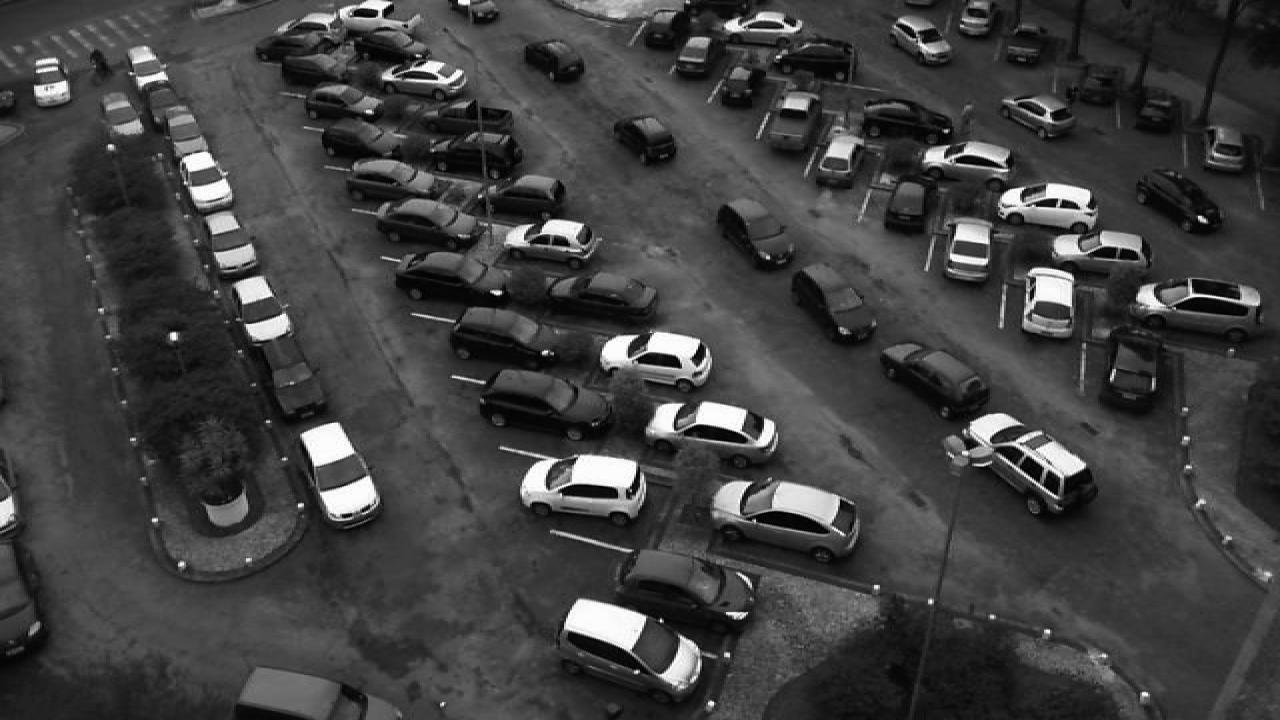Car: (550, 598, 706, 706), (956, 410, 1100, 516), (706, 475, 866, 565), (610, 547, 760, 633), (472, 367, 616, 440), (516, 452, 650, 528), (642, 398, 782, 470), (296, 418, 384, 530), (230, 666, 406, 720), (876, 340, 994, 420), (1124, 276, 1266, 340), (788, 261, 882, 344), (596, 328, 716, 392), (444, 304, 564, 364), (1100, 322, 1172, 412), (1132, 169, 1224, 236), (392, 251, 508, 304), (714, 196, 796, 269), (548, 271, 660, 324), (256, 338, 328, 419), (992, 180, 1102, 233), (376, 198, 484, 249), (1050, 231, 1156, 282), (504, 217, 604, 267), (912, 140, 1018, 187), (420, 130, 524, 176), (1020, 266, 1080, 343), (230, 272, 294, 343), (344, 156, 440, 202), (856, 96, 956, 140), (374, 58, 470, 102), (940, 215, 1000, 285), (484, 172, 568, 221), (198, 205, 258, 272), (320, 118, 408, 162), (996, 94, 1078, 140), (416, 97, 514, 135), (178, 148, 238, 210), (774, 36, 858, 80), (888, 14, 956, 68), (766, 91, 822, 153), (610, 115, 678, 165), (302, 82, 386, 122), (252, 22, 334, 62), (882, 177, 938, 233), (524, 38, 588, 84), (720, 10, 804, 44), (1200, 125, 1256, 175), (810, 134, 860, 189), (352, 29, 430, 62), (28, 55, 76, 108), (280, 53, 350, 88), (102, 90, 148, 141), (998, 22, 1050, 66), (342, 12, 414, 43), (1072, 61, 1120, 107), (154, 96, 200, 140), (1134, 50, 1178, 96), (164, 119, 212, 161), (718, 64, 762, 109), (124, 43, 172, 84), (672, 34, 716, 78), (282, 10, 344, 40), (636, 8, 680, 50), (140, 75, 184, 115), (954, 0, 1000, 38), (336, 0, 398, 22)
